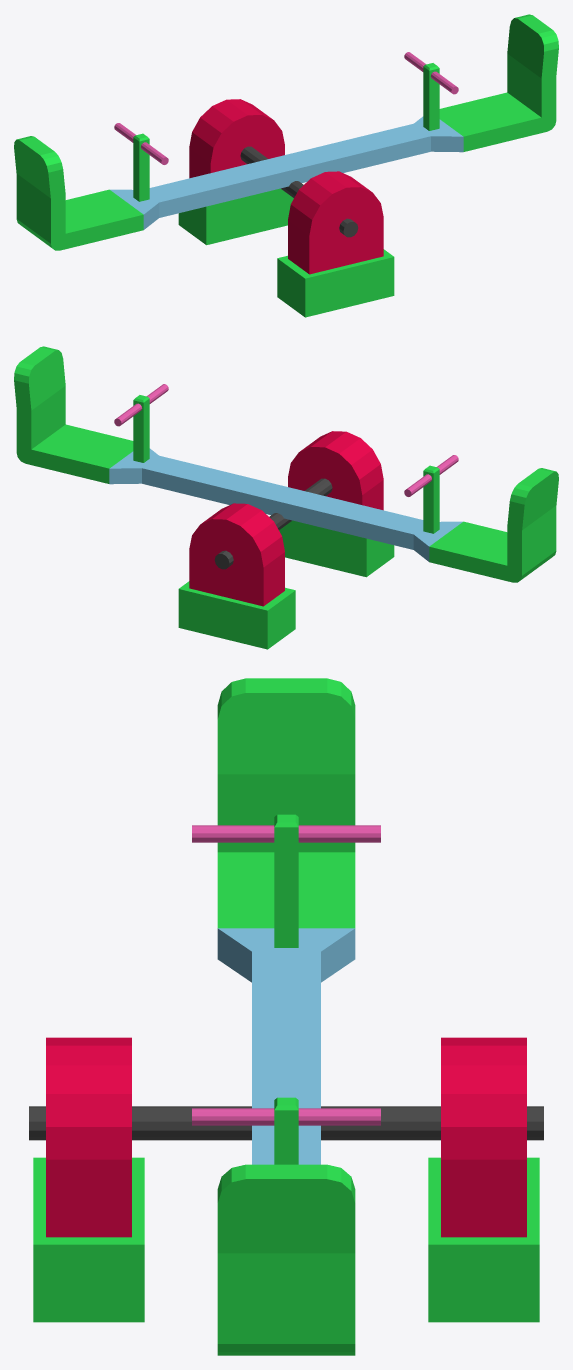
File: Seesaw.fbx
3 renders of one model, top to bottom at view 1: azimuth 30°, elevation 25°; view 2: azimuth 150°, elevation 25°; view 3: azimuth 270°, elevation 25°, orthographic. The views are drawn at different scales.
Visible parts, largest first — view 1: Seesaw, Seesaw Base; view 2: Seesaw, Seesaw Base; view 3: Seesaw, Seesaw Base.
Boxes of the visible parts, left/top/right/bottom form: Seesaw: left=14, top=14, right=558, bottom=250; Seesaw Base: left=178, top=99, right=394, bottom=317; Seesaw: left=14, top=346, right=558, bottom=582; Seesaw Base: left=178, top=431, right=394, bottom=649; Seesaw: left=192, top=678, right=380, bottom=1355; Seesaw Base: left=29, top=1037, right=543, bottom=1322.
Bounding box in the file's own units: 276 × 90 × 120.
